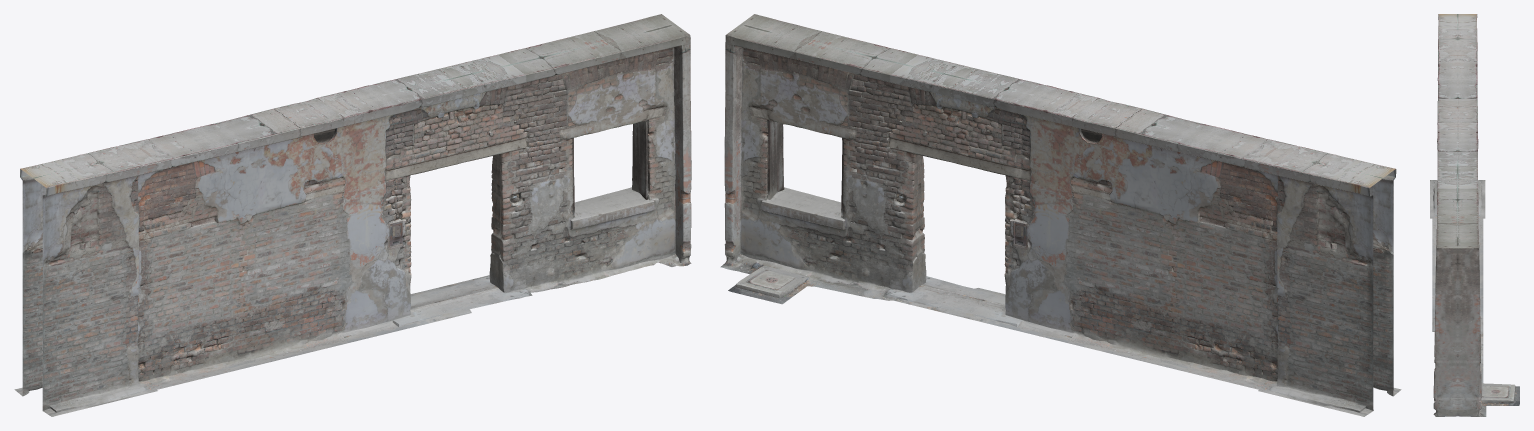
The model's file is sm_Wall_03_03.fbx.
3 views of the same model, side by side, from view 1: azimuth 30°, elevation 25°; view 2: azimuth 150°, elevation 25°; view 3: azimuth 270°, elevation 25° (orthographic). The views are drawn at different scales.
Parts seen in each view (by area): view 1: sm_Wall_03_03_LOD0; view 2: sm_Wall_03_03_LOD0; view 3: sm_Wall_03_03_LOD0.
Boxes of the visible parts, left/top/right/bottom form: sm_Wall_03_03_LOD0: left=14, top=14, right=691, bottom=416; sm_Wall_03_03_LOD0: left=720, top=14, right=1401, bottom=416; sm_Wall_03_03_LOD0: left=1430, top=14, right=1519, bottom=416.
Size of the model in its own units: 166 by 1016 by 350.
